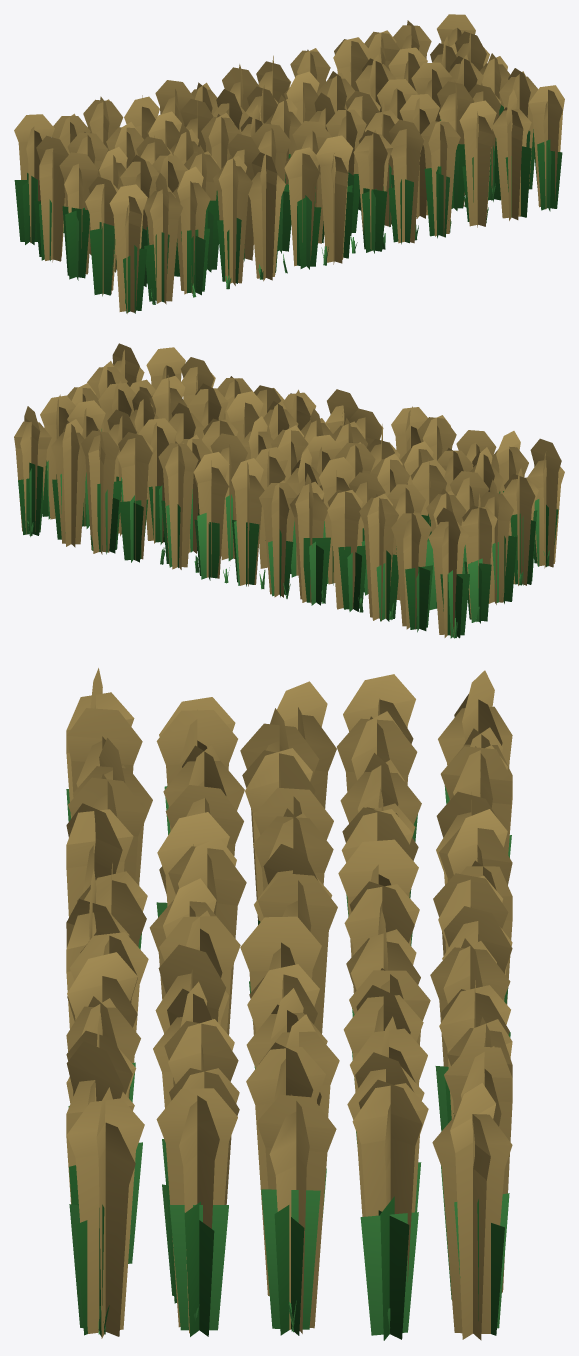
Rendered from crop_wheat.glb.
3 views of the same model, one above another, from view 1: azimuth 30°, elevation 25°; view 2: azimuth 150°, elevation 25°; view 3: azimuth 270°, elevation 25° (orthographic). The views are drawn at different scales.
Parts seen in each view (by area): view 1: Stage3, Stage2, Stage1; view 2: Stage3, Stage2, Stage1; view 3: Stage3, Stage2.
Part boxes in pixels (box(x1,y1,x2,y2)): Stage3: box(14, 14, 564, 313); Stage2: box(14, 105, 562, 313); Stage1: box(63, 183, 495, 304); Stage3: box(14, 343, 564, 637); Stage2: box(18, 429, 558, 638); Stage1: box(27, 521, 549, 638); Stage3: box(66, 668, 512, 1340); Stage2: box(66, 786, 511, 1340).
Size of the model in its own units: 2.8 by 0.7395 by 1.2.
